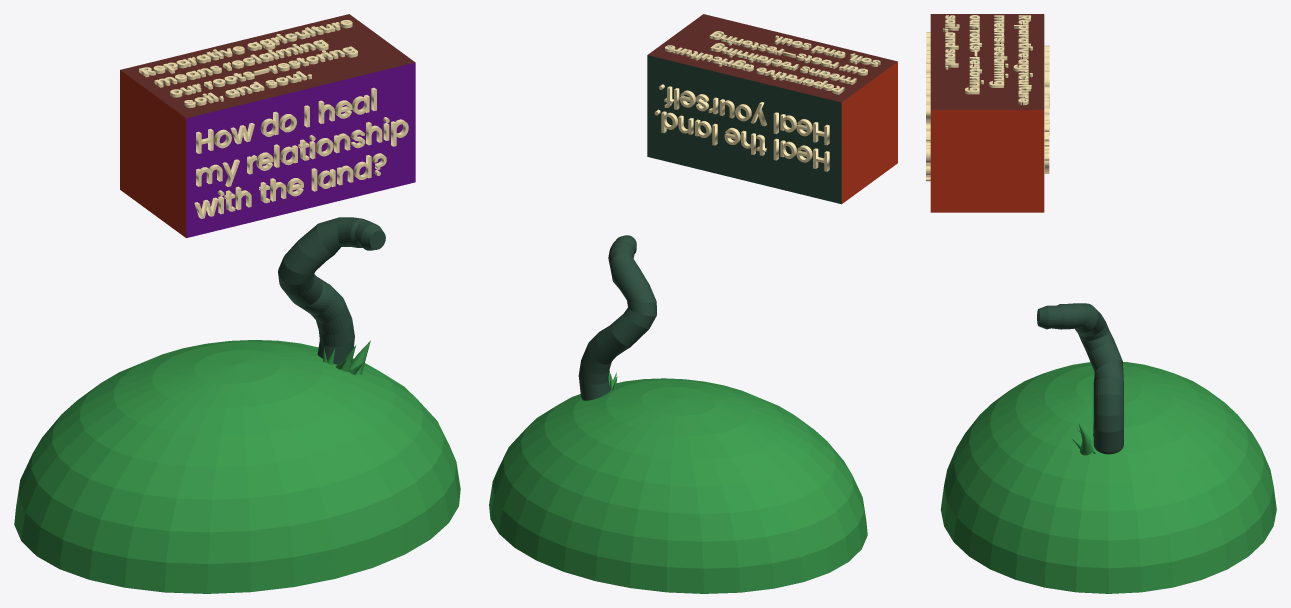
Rendered from TestD_aniB.gltf.
3 views of the same model, side by side, from view 1: azimuth 30°, elevation 25°; view 2: azimuth 150°, elevation 25°; view 3: azimuth 270°, elevation 25° (orthographic). The views are drawn at different scales.
Parts seen in each view (by area): view 1: ground, copyCube, flowerStem; view 2: ground, copyCube, flowerStem; view 3: ground, copyCube, flowerStem.
Boxes of the visible parts, x1,y1,x2,y2 form: ground: (14,340,460,593); copyCube: (120,14,415,238); flowerStem: (278,217,385,364); ground: (489,378,867,593); copyCube: (647,14,897,204); flowerStem: (578,235,656,400); ground: (940,362,1276,593); copyCube: (926,14,1049,212); flowerStem: (1037,303,1123,454).
Bounding box in the file's own units: 13.49 × 16.25 × 11.89.
